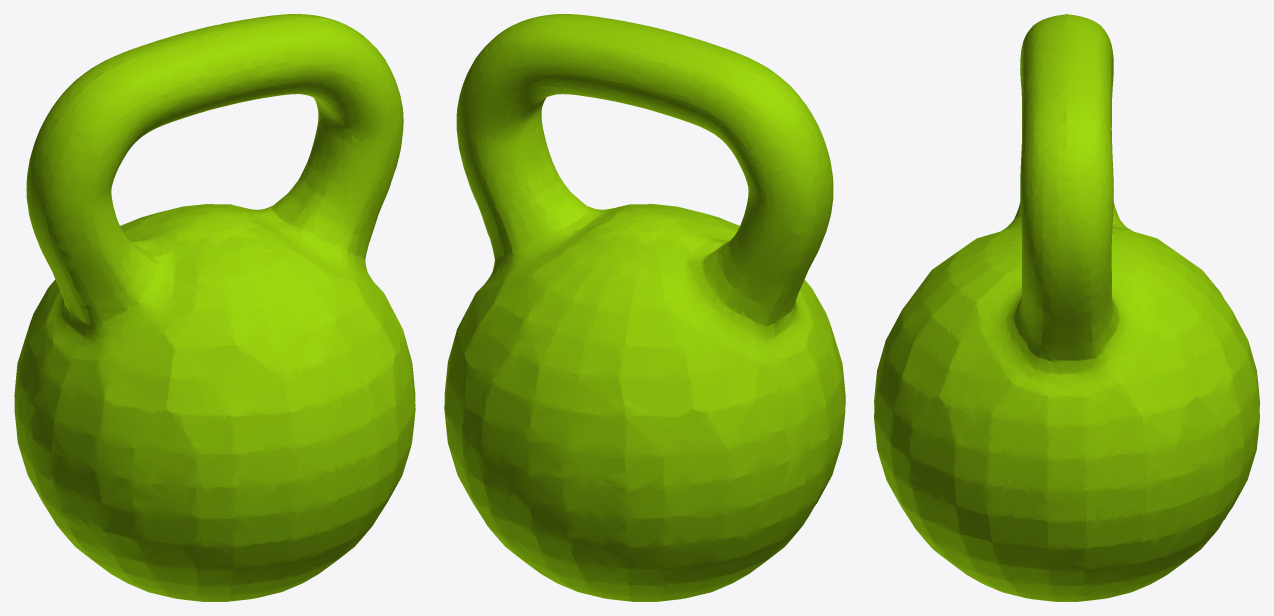
Rendered from kettle.glb.
3 views of the same model, side by side, from view 1: azimuth 30°, elevation 25°; view 2: azimuth 150°, elevation 25°; view 3: azimuth 270°, elevation 25° (orthographic). The views are drawn at different scales.
Visible parts, largest first — view 1: Mesh_0; view 2: Mesh_0; view 3: Mesh_0.
Part boxes in pixels (x1,y1,x2,y2): Mesh_0: [14, 14, 415, 601]; Mesh_0: [444, 14, 845, 601]; Mesh_0: [874, 14, 1259, 601].
Size of the model in its own units: 1.32 by 1.9 by 1.27.
Materials: 1 (1 with a texture image).
